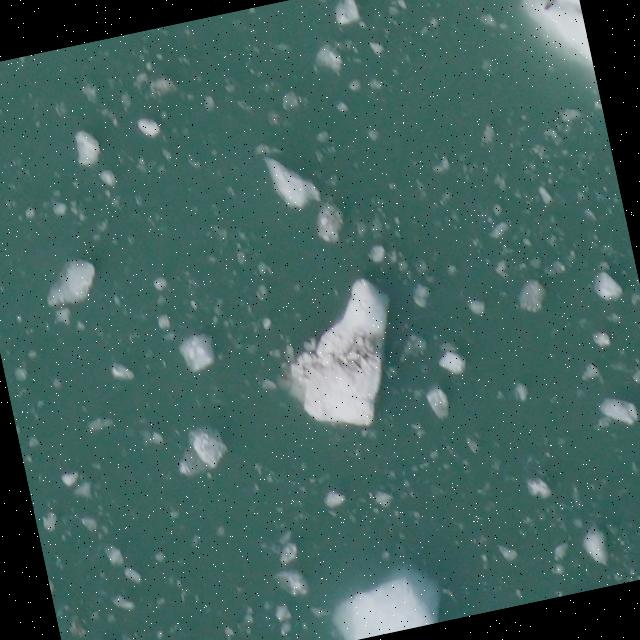seal: (538, 0, 579, 14)
